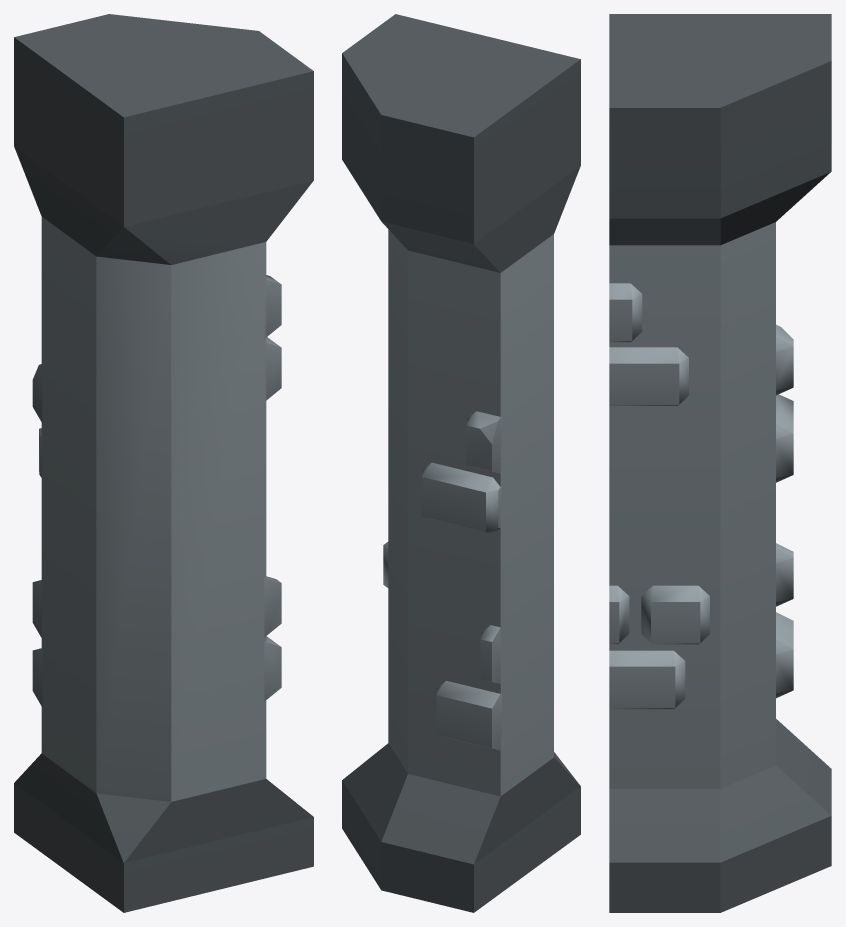
File: Corridorcornner.fbx
3 renders of one model, left to right at view 1: azimuth 30°, elevation 25°; view 2: azimuth 150°, elevation 25°; view 3: azimuth 270°, elevation 25°, orthographic. The views are drawn at different scales.
Visible parts, largest first — view 1: wall_corner_small; view 2: wall_corner_small; view 3: wall_corner_small.
Boxes of the visible parts, left/top/right/bottom form: wall_corner_small: left=14, top=14, right=313, bottom=912; wall_corner_small: left=342, top=14, right=580, bottom=912; wall_corner_small: left=609, top=14, right=831, bottom=912.
Bounding box in the file's own units: 100 × 400 × 100.
Materials: 1 (1 with a texture image).
